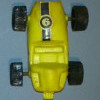carro: (10, 2, 85, 98)
